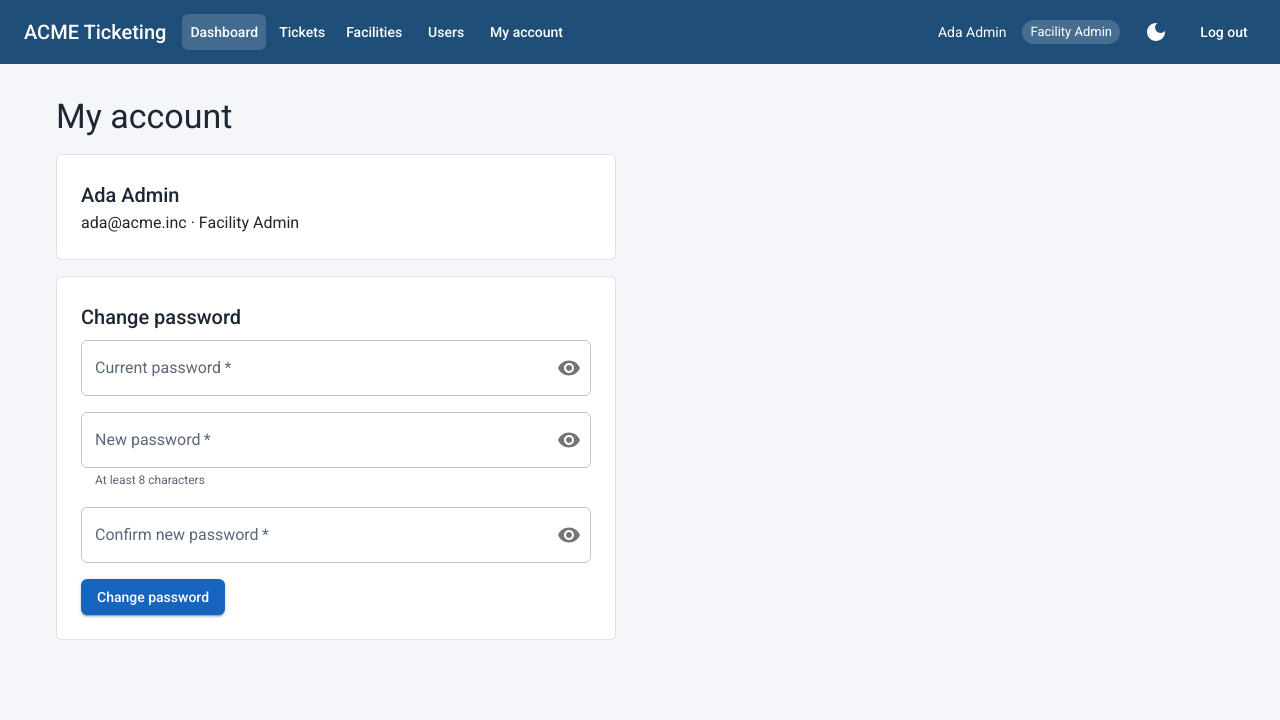
Test case: AccountPage › a wrong current password shows under that box
Type "password1" into the password field labelled "Current password *" at point(311, 368), box [81,340,541,396]
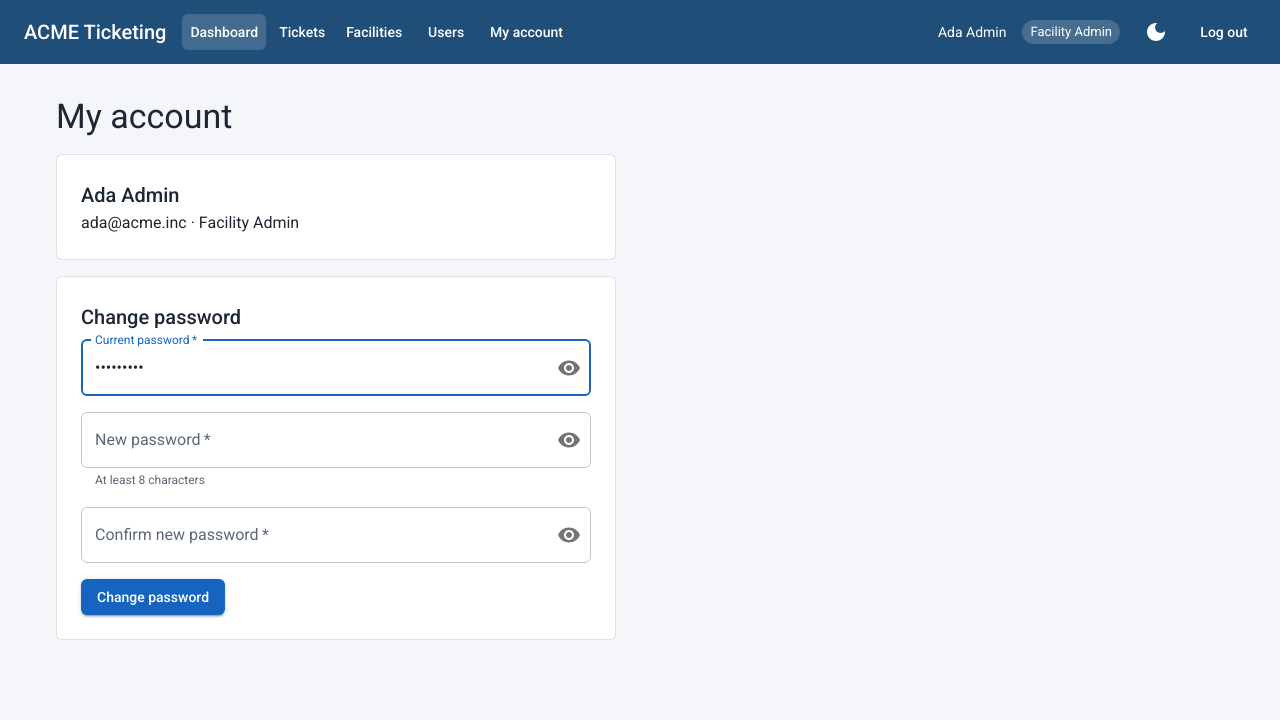
Type "newpass123" into the password field labelled "New password *" at point(311, 440), box [81,412,541,468]
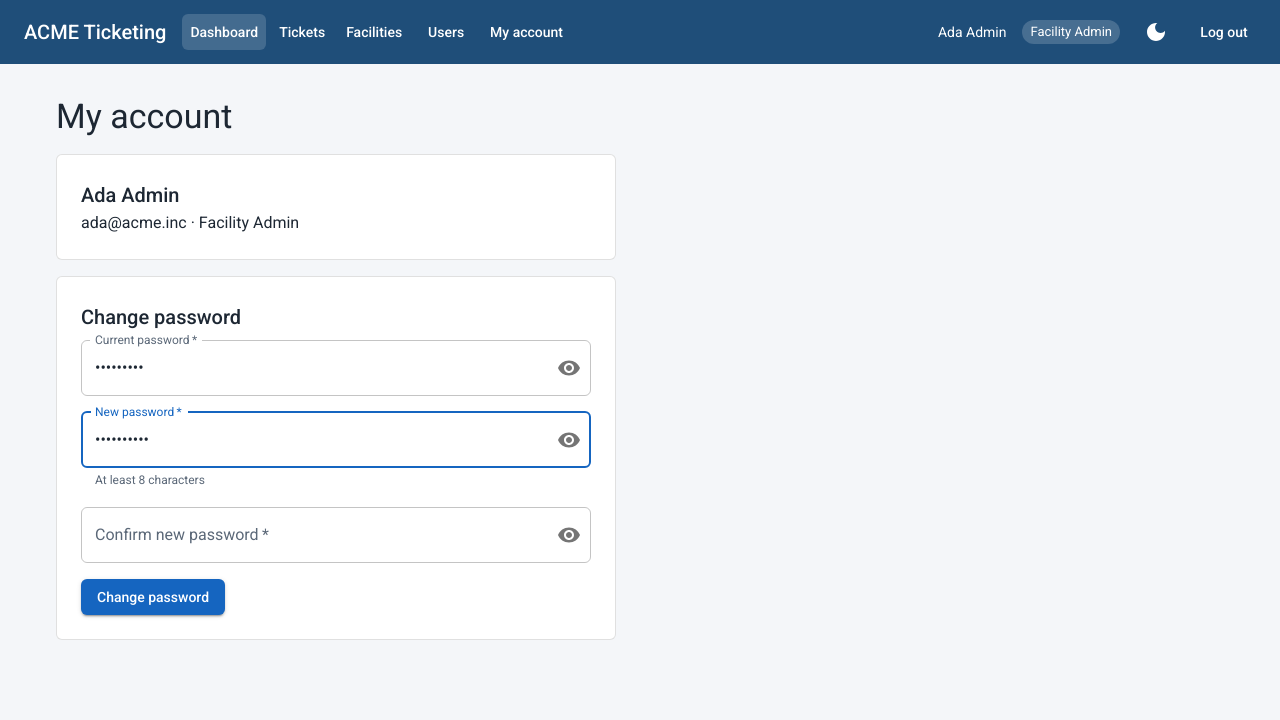
Type "newpass123" into the password field labelled "Confirm new password *" at point(311, 535), box [81,507,541,563]
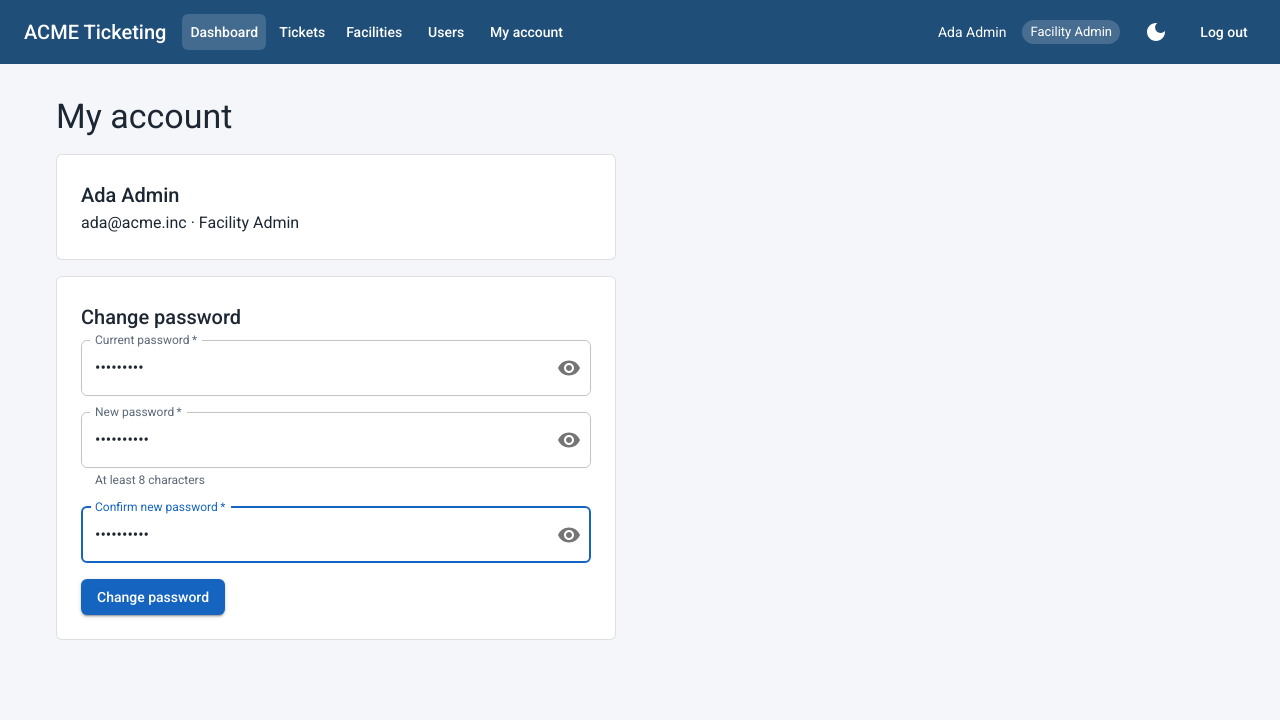
Click the button "Change password" at point(153, 597), box [81,579,225,615]
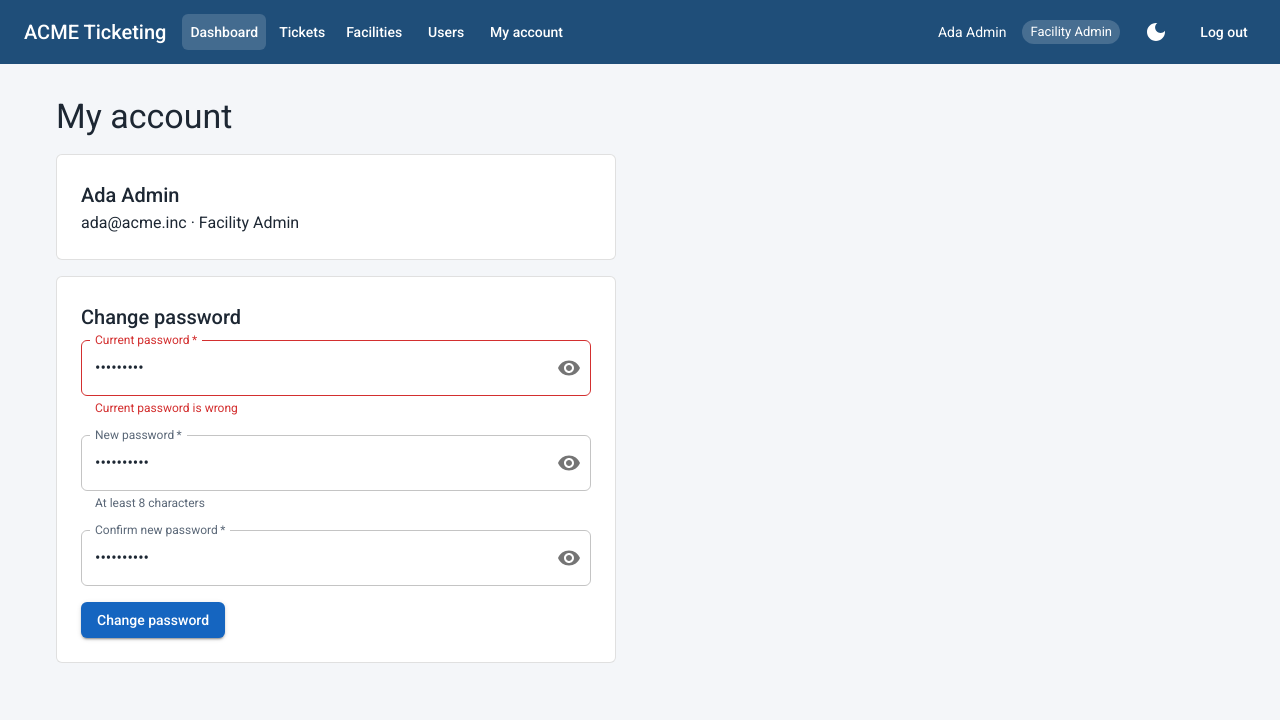
Check: the text "Current password is wrong" is shown, box [95,401,238,415]
